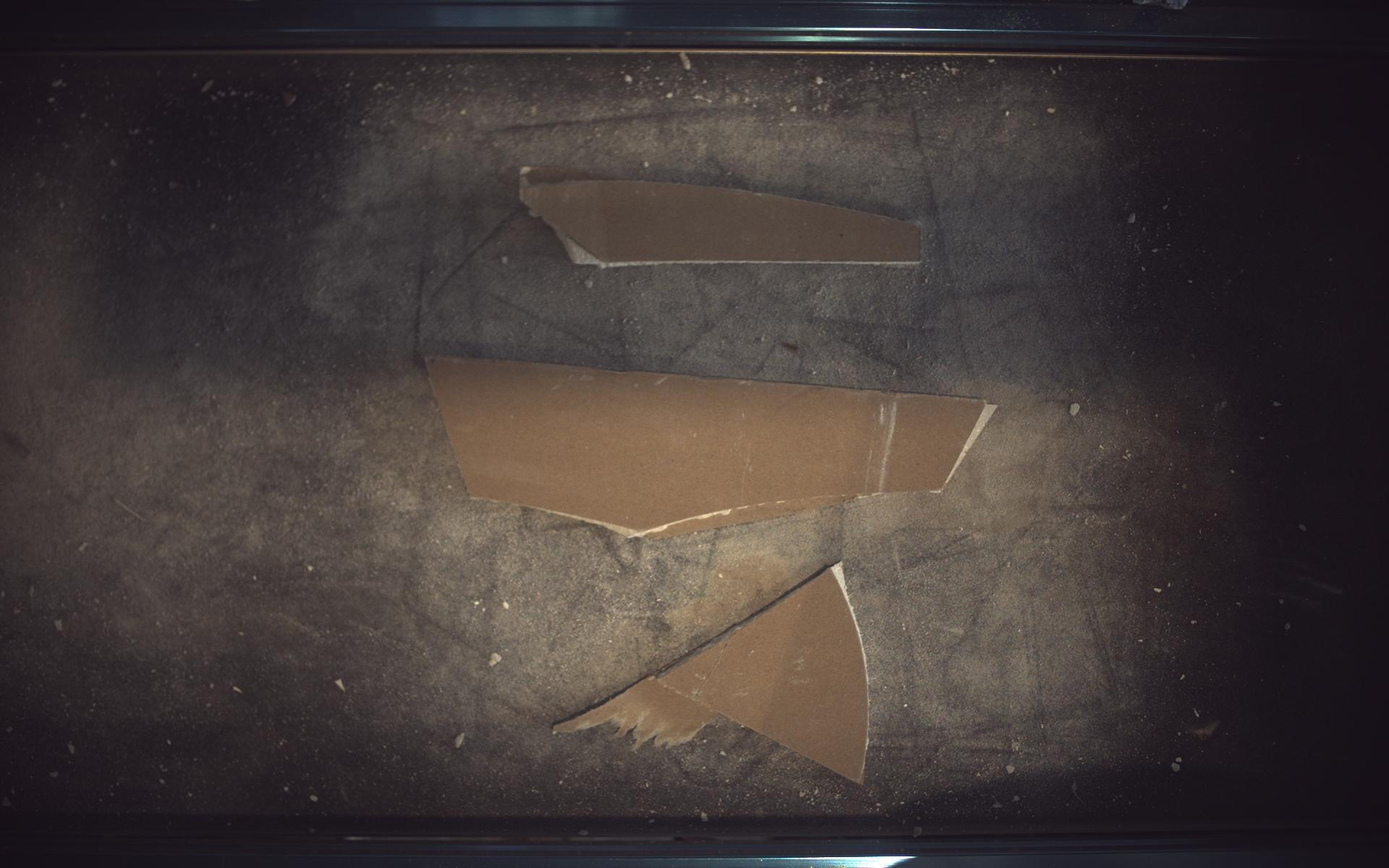gypsum_board: (427, 356, 998, 537), (553, 564, 870, 785), (519, 166, 922, 266)
